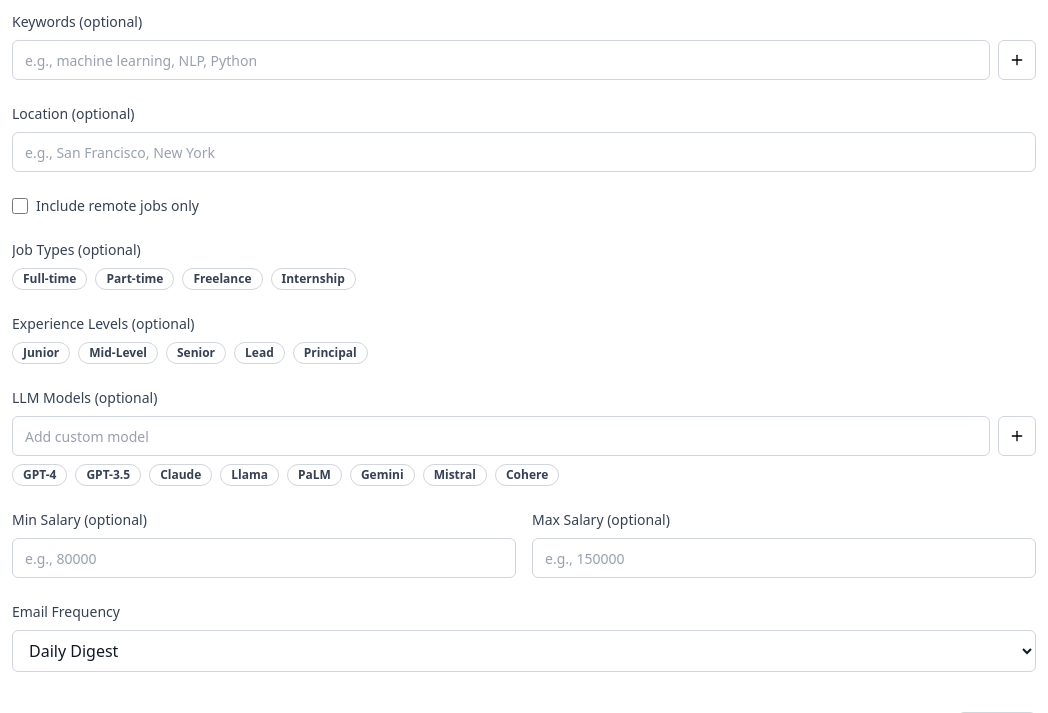
Scenario: AlertForm › allows entering keywords
Type "Python" into the field with placeholder "e.g., machine learning, NLP, Python" at (501, 60), box [12,40,990,80]
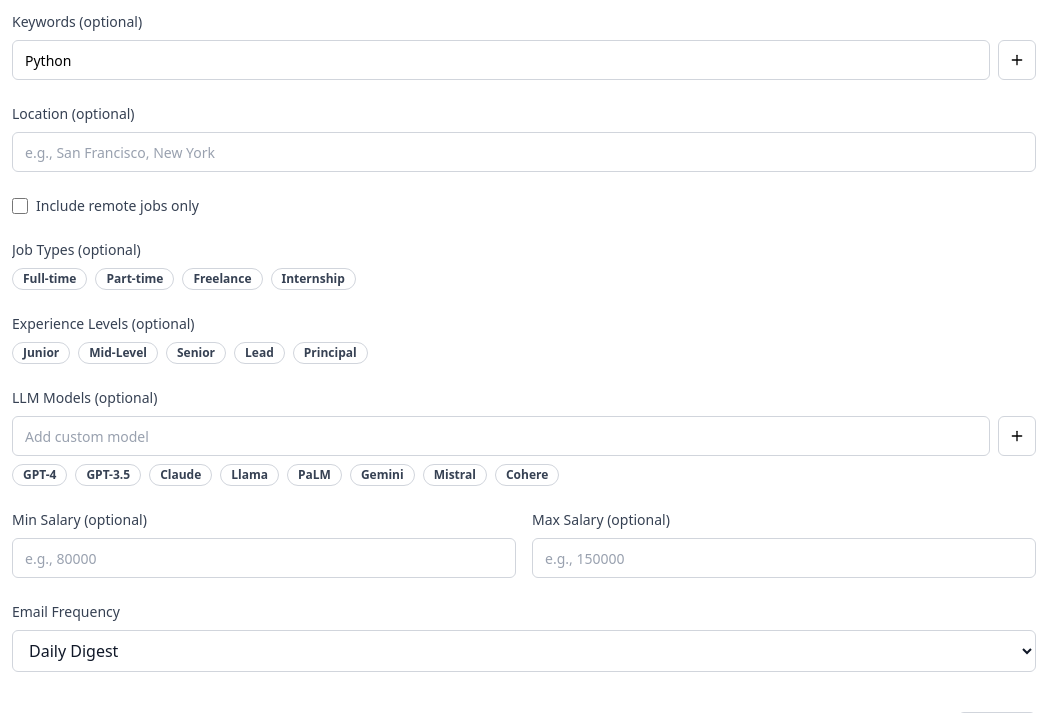
Click the 1st button at (1017, 60), box [998,40,1036,80]
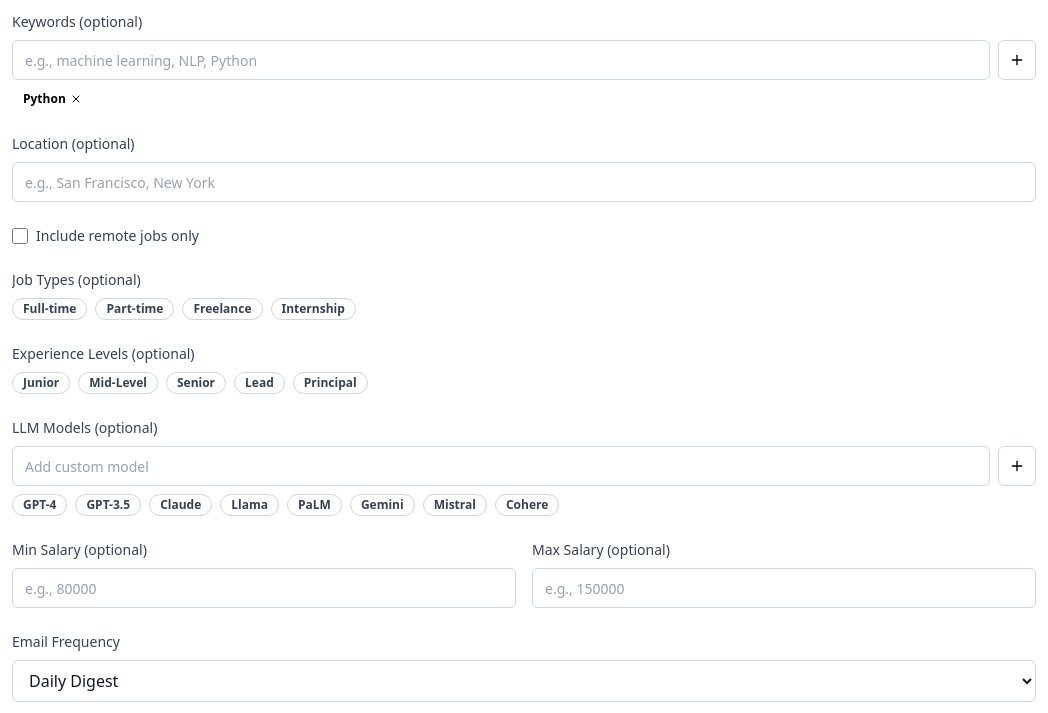
Expected: the text "Python" is shown, [23,90,82,107]
